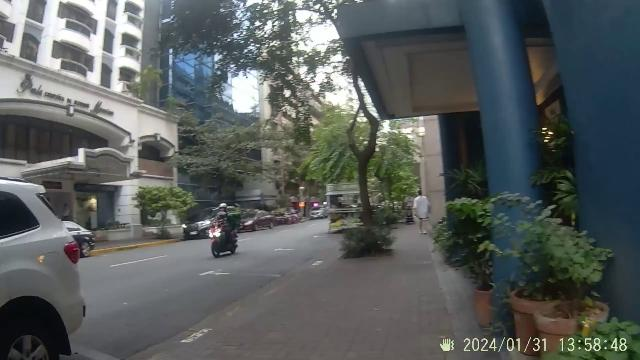potted_plant: (485, 192, 635, 356)
